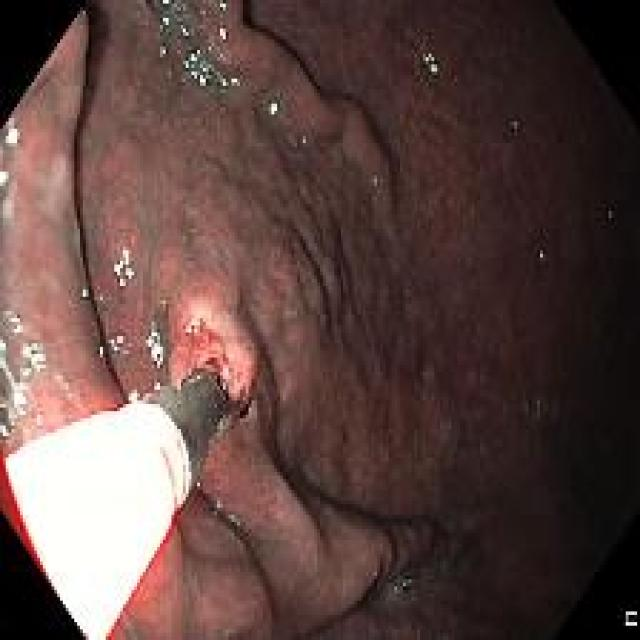blur: (1, 120, 75, 440)
bubbles: (289, 131, 309, 151)
color misalignment: (625, 611, 638, 625)
contrast: (558, 8, 634, 602), (466, 546, 631, 635)
instrument: (3, 363, 252, 638)
saturation: (6, 400, 192, 640)
specularity: (0, 339, 27, 418), (181, 46, 211, 88), (113, 246, 134, 287), (145, 329, 165, 369), (22, 343, 46, 371), (421, 50, 439, 75), (108, 333, 124, 356), (8, 313, 23, 333), (5, 128, 20, 147), (216, 25, 229, 43), (185, 318, 198, 336), (229, 511, 241, 529), (267, 100, 279, 117), (125, 389, 139, 402), (179, 24, 190, 38), (0, 170, 8, 189), (229, 76, 241, 87), (157, 45, 167, 58), (219, 77, 229, 90), (33, 414, 43, 427), (160, 15, 171, 26), (217, 0, 227, 11), (152, 381, 161, 393), (80, 285, 88, 298), (1, 424, 9, 437), (221, 364, 229, 377), (537, 249, 545, 261), (98, 344, 104, 360), (215, 498, 223, 510), (160, 0, 173, 6), (22, 369, 30, 378), (405, 577, 411, 587)
